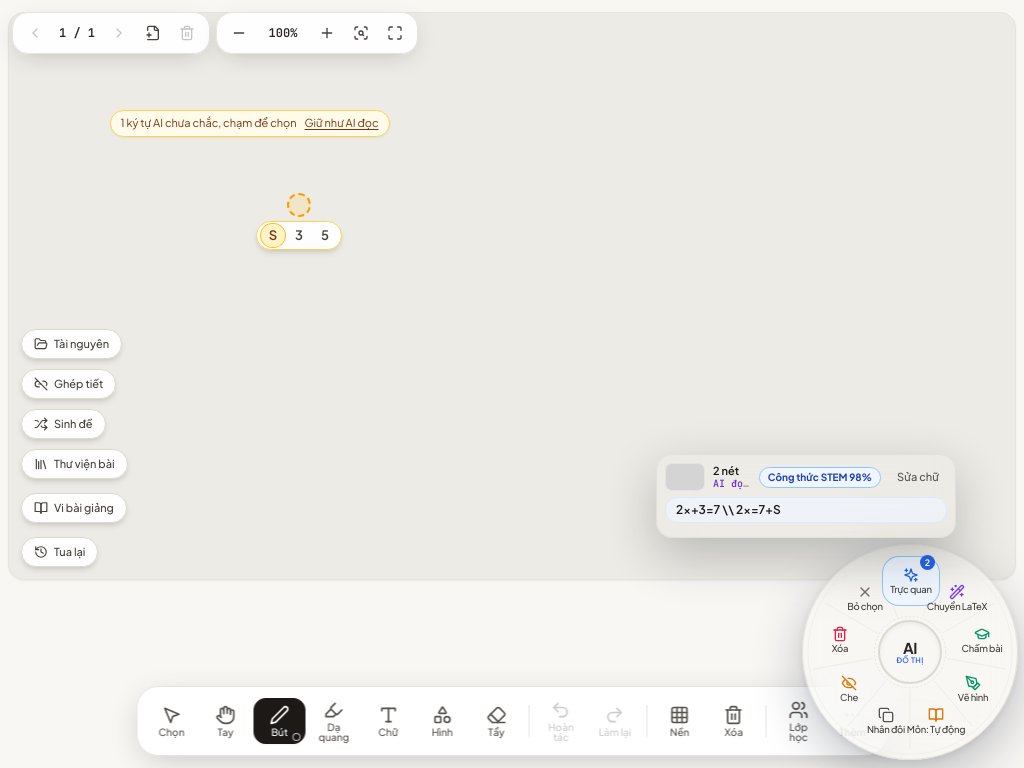
Scenario: chấm bài: xác nhận ký tự phân vân rồi chấm theo từng bước › ký tự phân vân hiện thanh chọn ngay dưới ký tự; chọn xong tự chấm, bôi đỏ bước sai, mở cửa sổ giải thích
The width and height of the screenshot is (1024, 768).
Check: the button with test id "uncertain-pick-0-0" reads "S", box [261,224,285,247]
Check: the button with test id "uncertain-pick-0-1" reads "3", box [287,224,311,247]
Click the button with test id "ai-fab-grade" at (982, 640), box [954,616,1010,664]
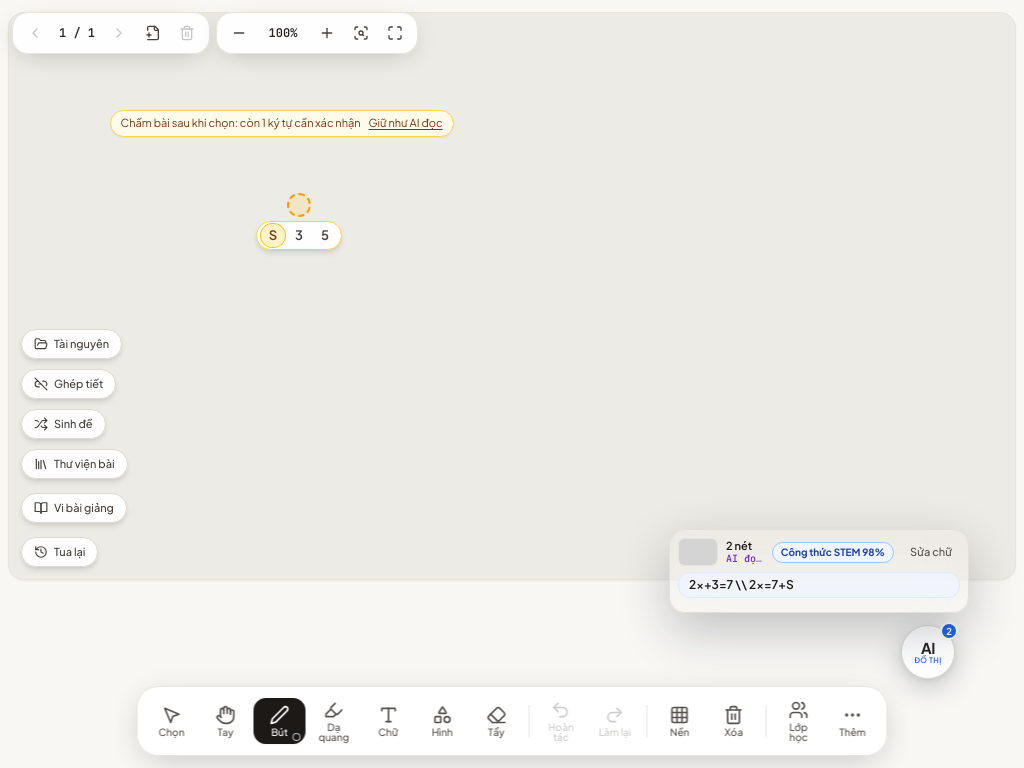
Check: the element with test id "uncertain-footer" shows "Chấm bài sau khi chọn", box [121,116,361,129]
Click the button with test id "uncertain-pick-0-1" at (299, 235), box [287,224,311,247]
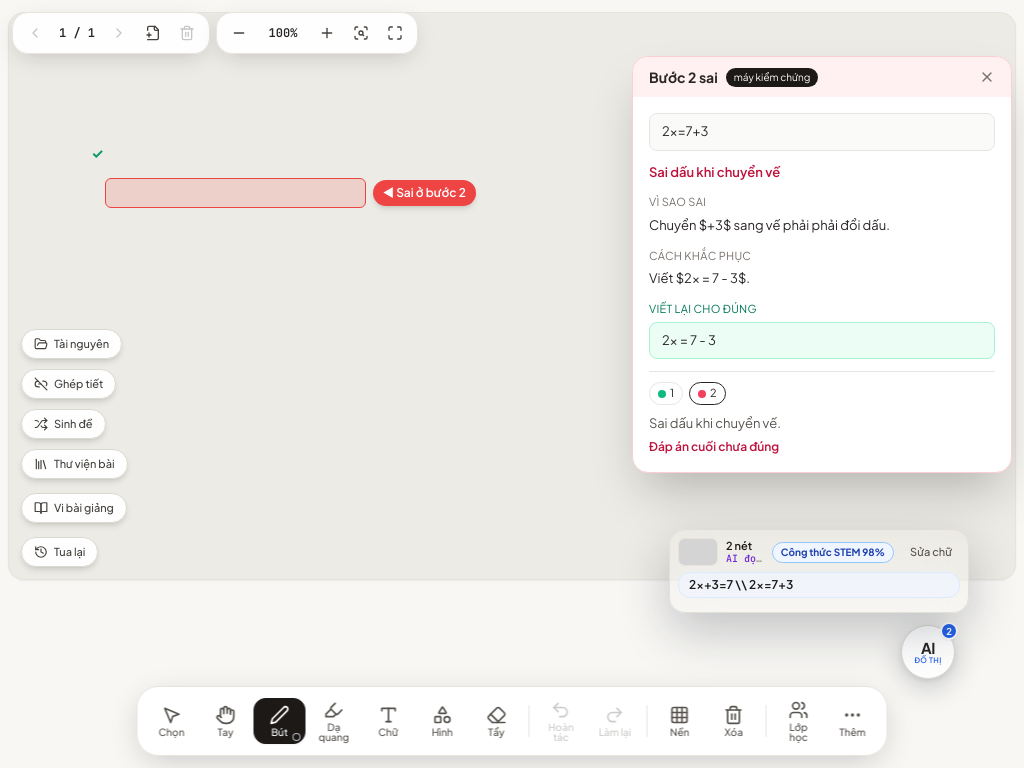
Check: the element with test id "grade-mark-error" is shown, box [105,178,366,208]
Check: the button with test id "grade-arrow-first" shows "Sai ở bước 2", box [373,180,476,206]
Check: the element with test id "step-explain-window" shows "Sai dấu khi chuyển vế", box [649,164,780,180]
Click the button with test id "explain-close" at (987, 77), box [979,69,995,85]
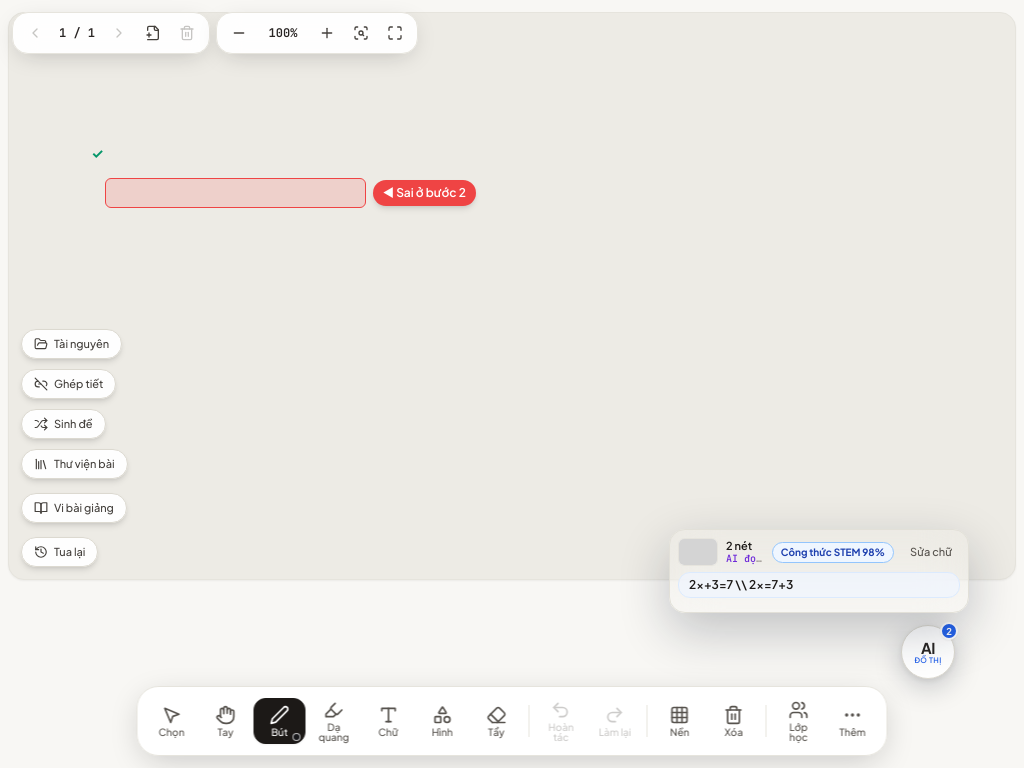
Check: the element with test id "step-explain-window" is gone
// chạm mũi tên mở lại cửa sổ
Click the button with test id "grade-arrow-first" at (424, 193), box [373,180,476,206]
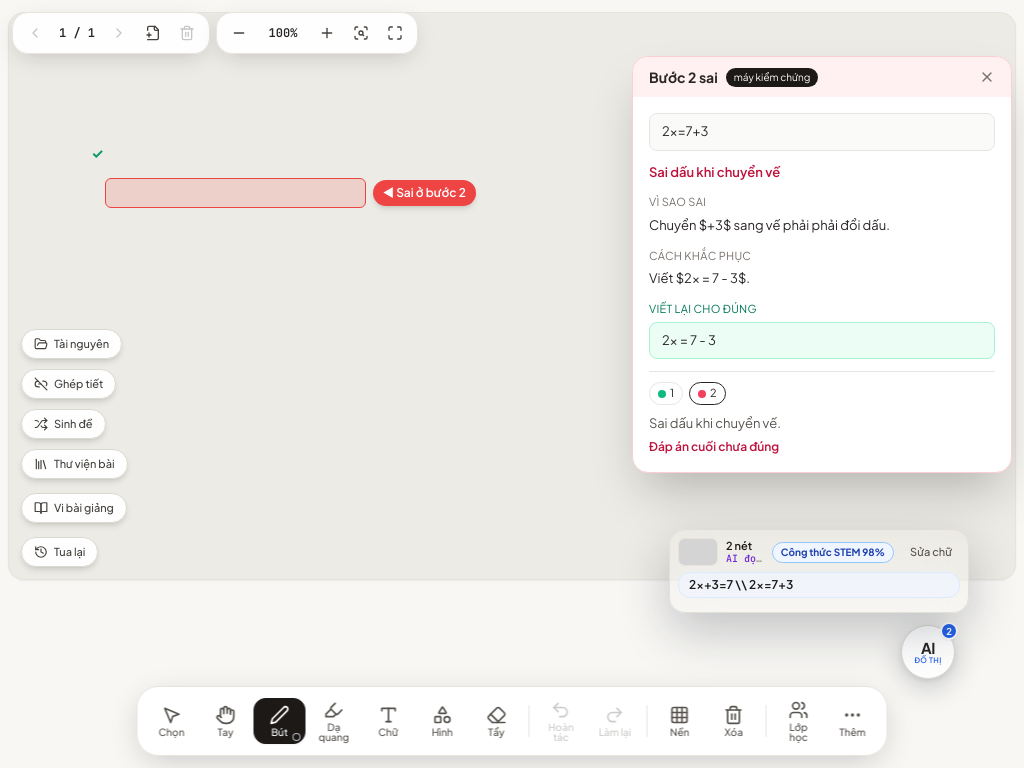
Check: the element with test id "step-explain-window" is shown, box [632,56,1012,473]
